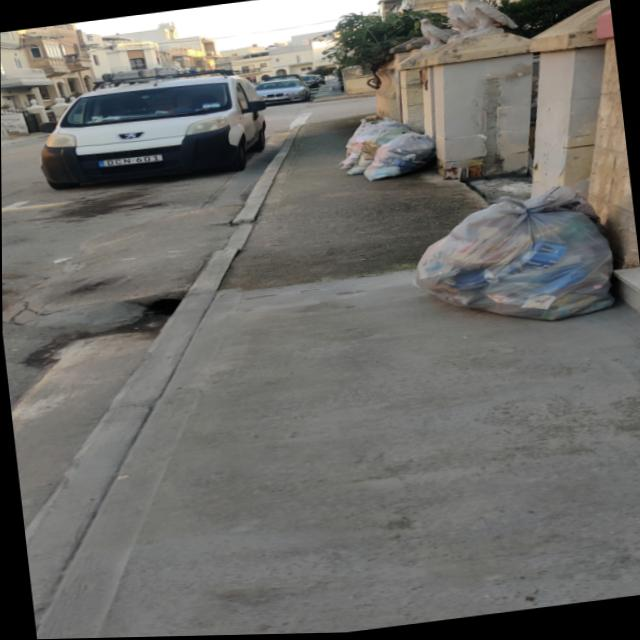Recyclable Material -Grey Bags-: (417, 193, 621, 323), (338, 115, 435, 183), (330, 82, 342, 92)
